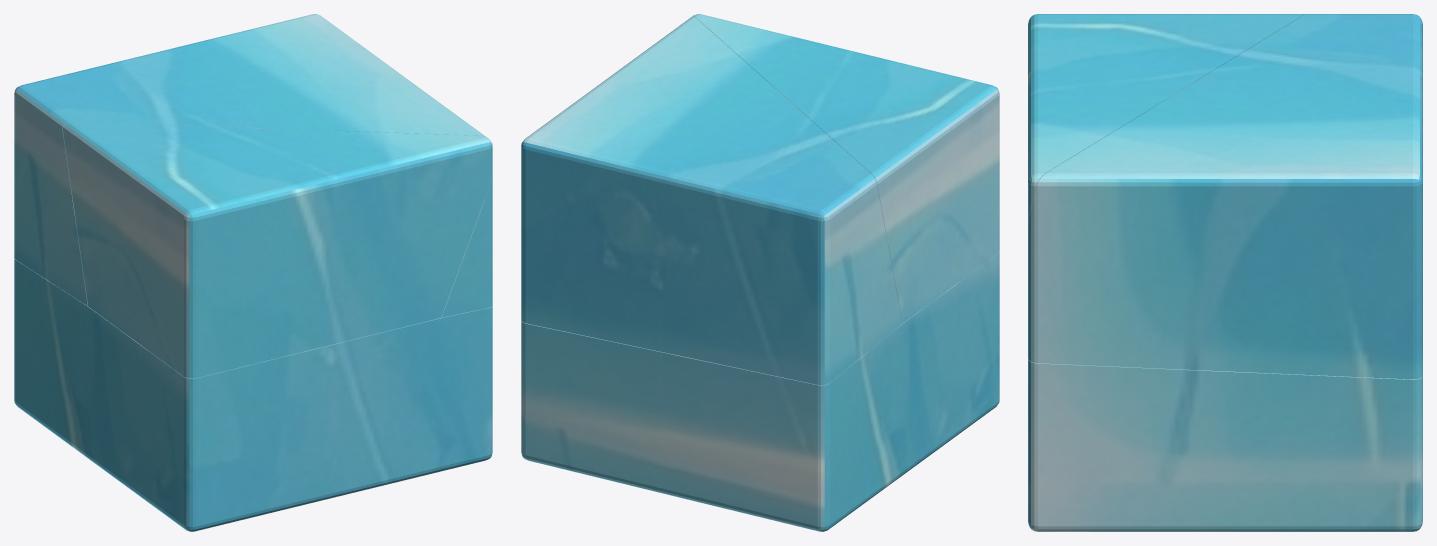
File: IceCube3Pieces.fbx
3 renders of one model, left to right at view 1: azimuth 30°, elevation 25°; view 2: azimuth 150°, elevation 25°; view 3: azimuth 270°, elevation 25°, orthographic. The views are drawn at different scales.
Visible parts, largest first — view 1: Cube_cell.019, Cube_cell.020, Cube_cell.005; view 2: Cube_cell.005, Cube_cell.020, Cube_cell.019; view 3: Cube_cell.005, Cube_cell.020, Cube_cell.019.
Boxes of the visible parts, bbox=[...] form: Cube_cell.019: bbox=[63, 122, 492, 378]; Cube_cell.020: bbox=[14, 259, 492, 531]; Cube_cell.005: bbox=[14, 14, 492, 317]; Cube_cell.005: bbox=[521, 16, 902, 385]; Cube_cell.020: bbox=[521, 252, 999, 531]; Cube_cell.019: bbox=[693, 14, 999, 322]; Cube_cell.005: bbox=[1028, 14, 1422, 379]; Cube_cell.020: bbox=[1028, 358, 1422, 531]; Cube_cell.019: bbox=[1028, 14, 1305, 227].
Bounding box in the file's own units: 2 × 2 × 2.
Materials: 1 (1 with a texture image).
